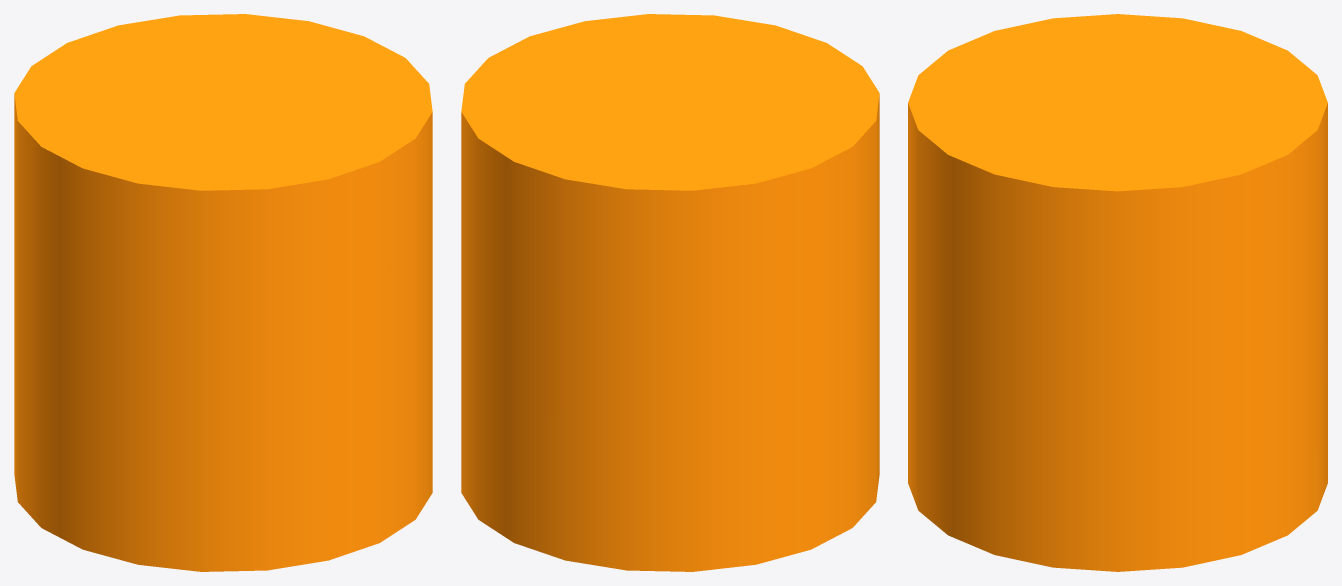
3 renders of one model, left to right at view 1: azimuth 30°, elevation 25°; view 2: azimuth 150°, elevation 25°; view 3: azimuth 270°, elevation 25°, orthographic.
Parts seen in each view (by area): view 1: BaseCylinder.002; view 2: BaseCylinder.002; view 3: BaseCylinder.002.
Boxes of the visible parts, <box> form: BaseCylinder.002: <box>14,14,432,571</box>; BaseCylinder.002: <box>461,14,879,571</box>; BaseCylinder.002: <box>908,14,1327,571</box>.
Size of what is drawn, in the model's own units: 0.7489 by 0.7489 by 0.7489.
1 material, 1 textured.
